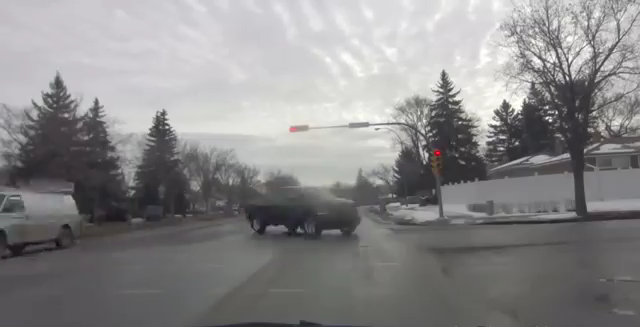car: (243, 183, 363, 238), (1, 187, 80, 260)
